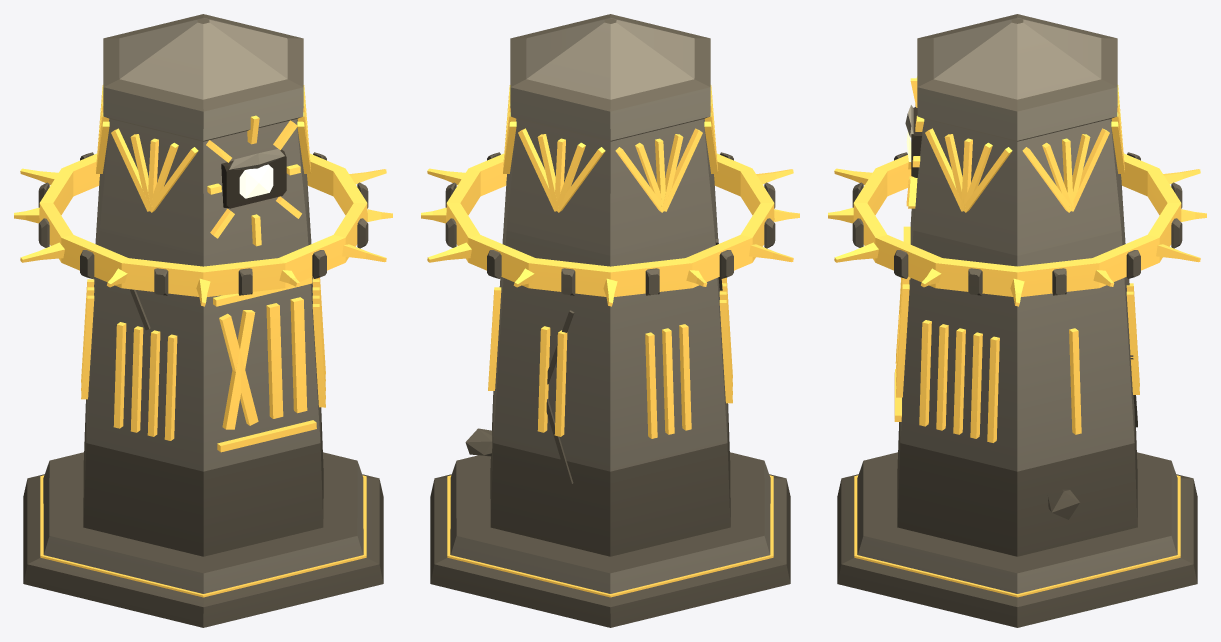
Rendered from hourstone.glb.
3 views of the same model, side by side, from view 1: azimuth 30°, elevation 25°; view 2: azimuth 150°, elevation 25°; view 3: azimuth 270°, elevation 25° (orthographic).
Visible parts, largest first — view 1: body, base, band, eye, lid; view 2: body, base, band; view 3: body, base, band, eye.
Part boxes in pixels (left/top/right/bottom): body: left=81, top=14, right=325, bottom=556; base: left=23, top=452, right=383, bottom=627; band: left=14, top=152, right=392, bottom=306; eye: left=221, top=149, right=286, bottom=208; lid: left=229, top=148, right=284, bottom=169; body: left=465, top=14, right=732, bottom=556; base: left=430, top=452, right=790, bottom=627; band: left=421, top=152, right=799, bottom=306; body: left=894, top=14, right=1139, bottom=556; base: left=837, top=452, right=1197, bottom=627; band: left=828, top=152, right=1206, bottom=306; eye: left=906, top=107, right=921, bottom=177.
Bounding box in the file's own units: 1.82 × 2.48 × 1.64.
